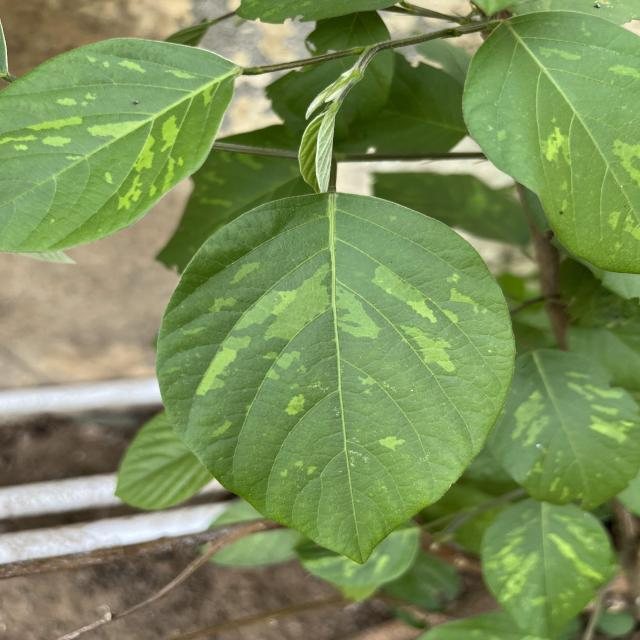Desmodium gangeticum: (150, 188, 520, 571), (0, 33, 256, 259), (456, 9, 640, 279)
